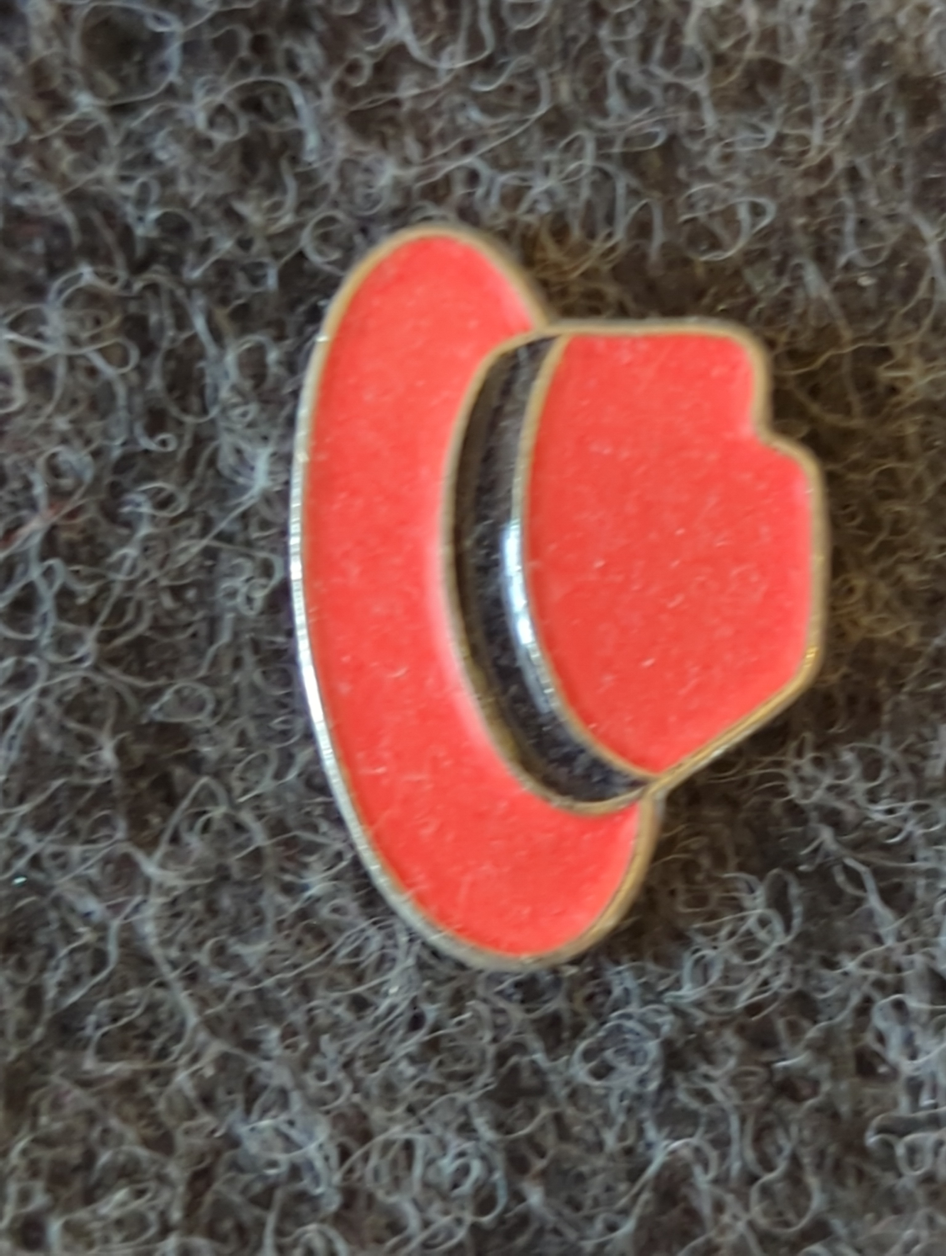Red-Hat: (195, 75, 946, 1073)
